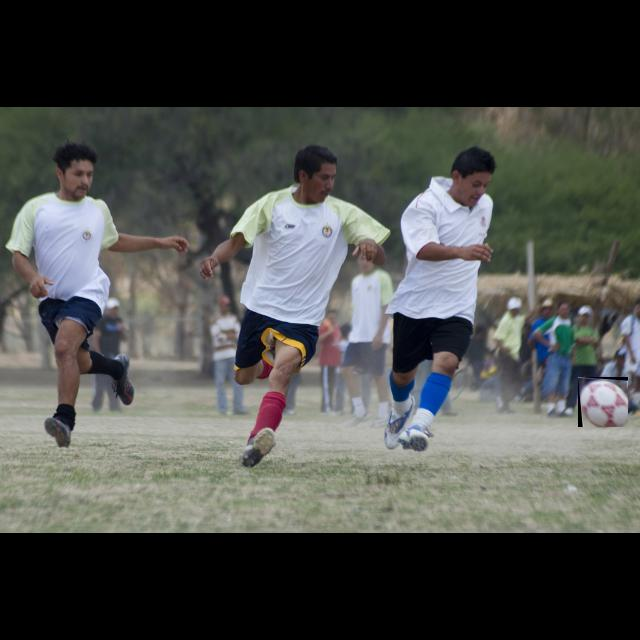Football: (578, 377, 628, 427)
